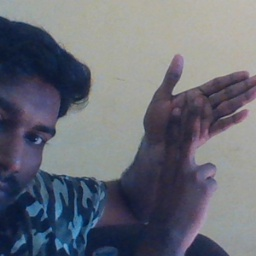N: (138, 53, 256, 196)
